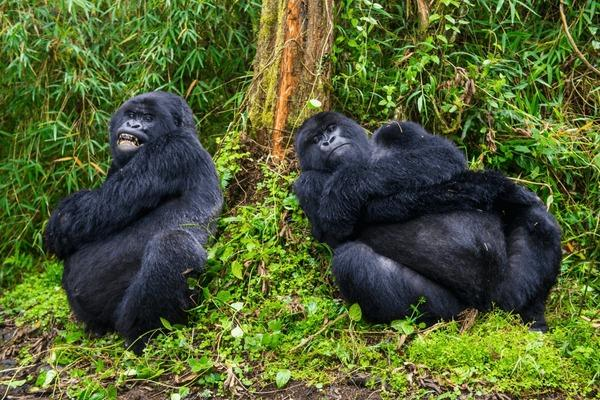goriile_montagne: (281, 110, 570, 328), (41, 69, 232, 344)
